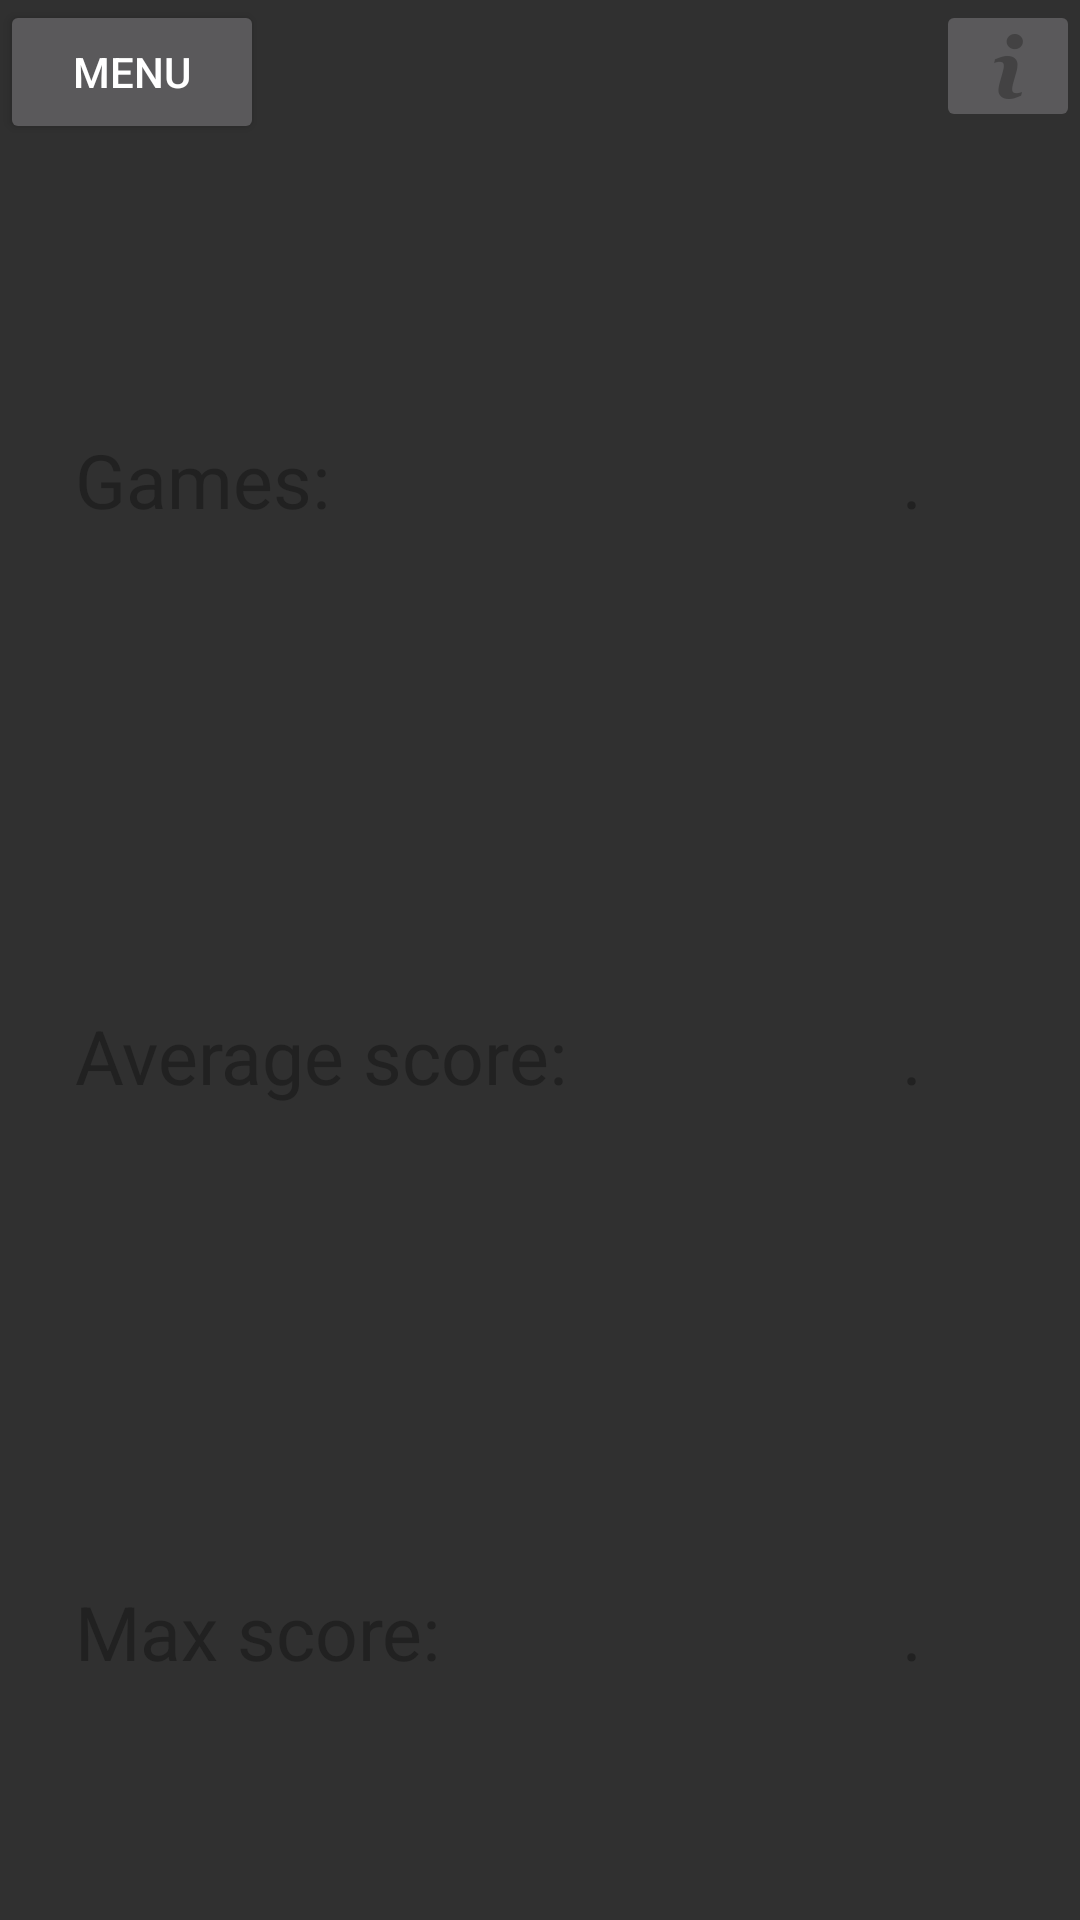

Locate icon controls on the screen. Image size 1080x1920, boxes as (x1, y1, x2, y2).
info: (948, 18, 1068, 114)
